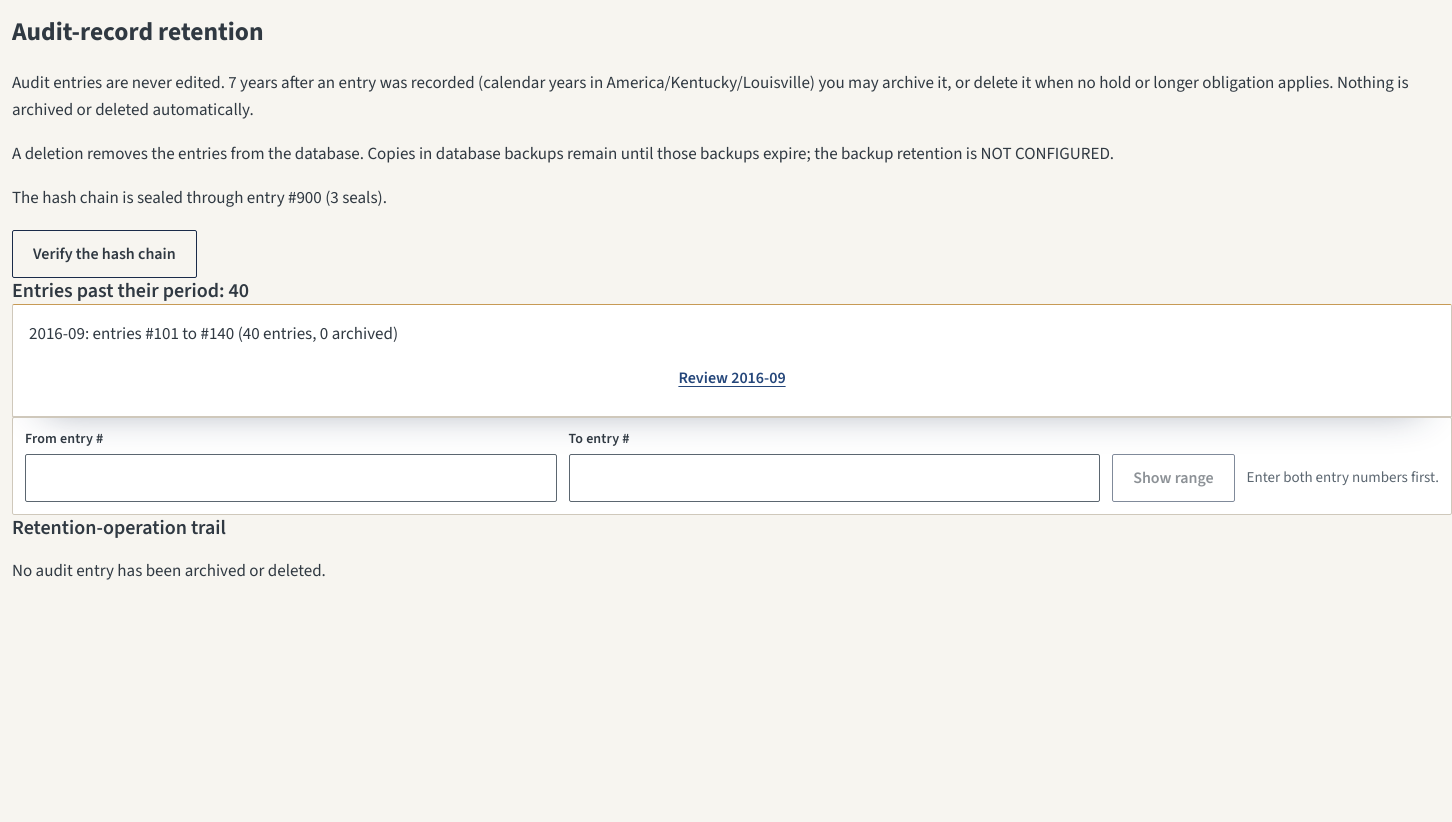
Test case: audit-retention workflow (TSK-0135, HH-SEC-08) › [HH-SEC-08][HH-STAFF-08] shows the period, the eligible months and the chain; nothing is automatic
Expected: the text "Nothing is archived or deleted automatically." is shown, [12,71,1409,122]
Expected: the text "the backup retention is NOT CONFIGURED" is shown, [12,142,1114,166]
Click the button "Verify the hash chain" at (104, 254), box [12,230,197,278]
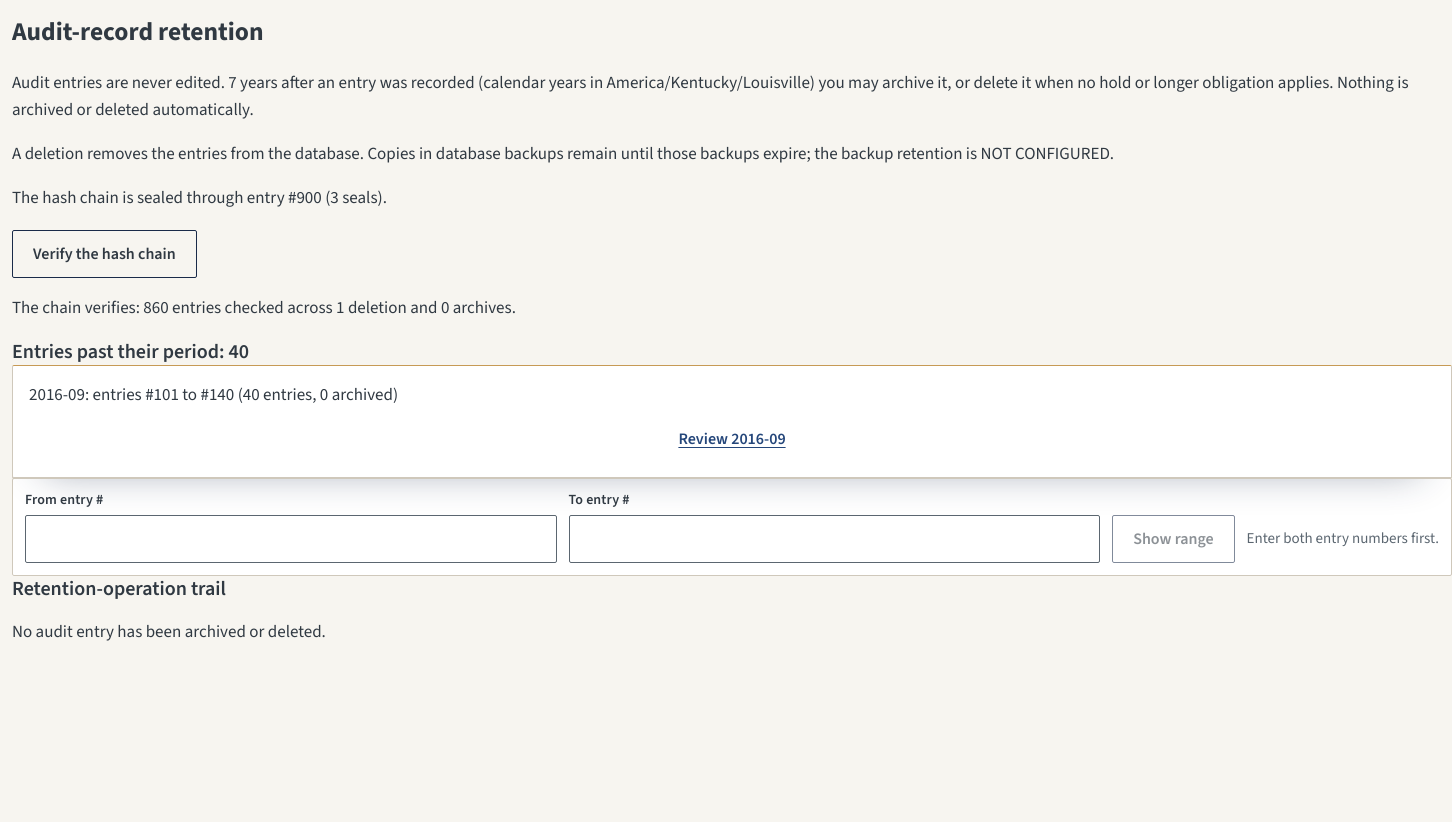
Expected: the text "The chain verifies: 860 entries checked across 1 deletion and 0 archives." is shown, [12,296,516,320]
